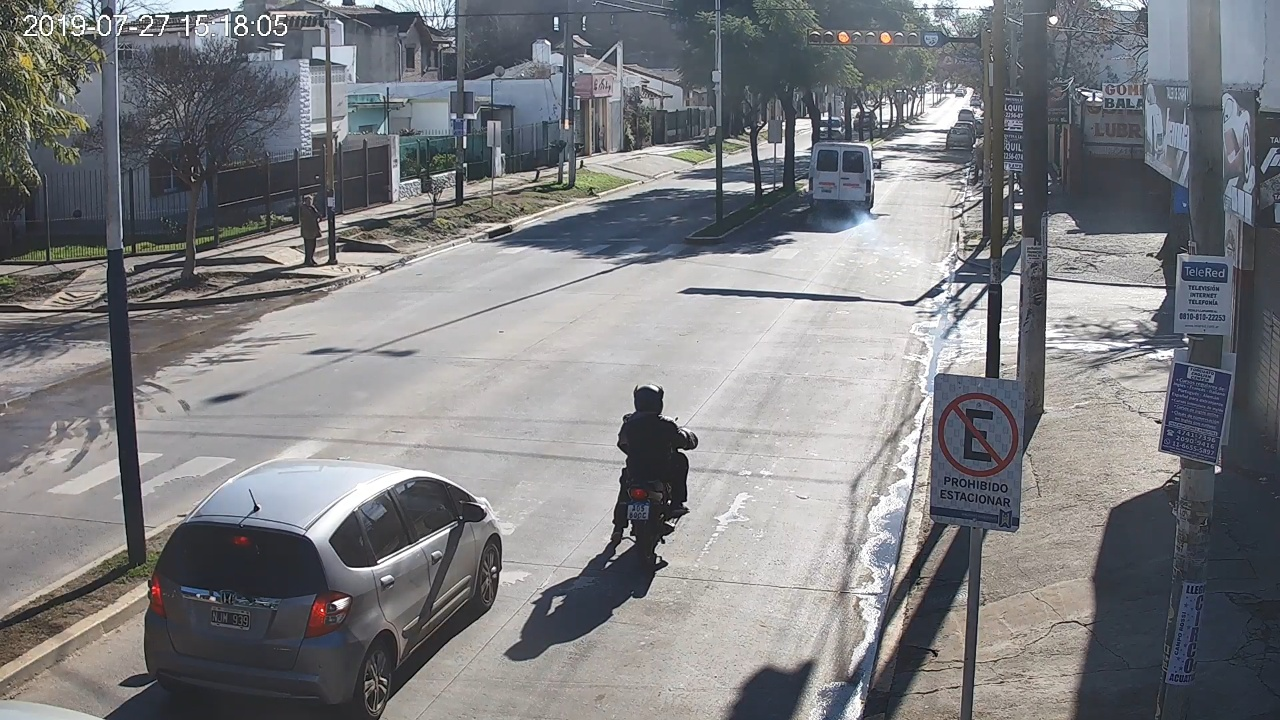car: (145, 457, 502, 720)
motorcycle: (609, 420, 698, 557)
traffic light: (836, 30, 920, 46)
